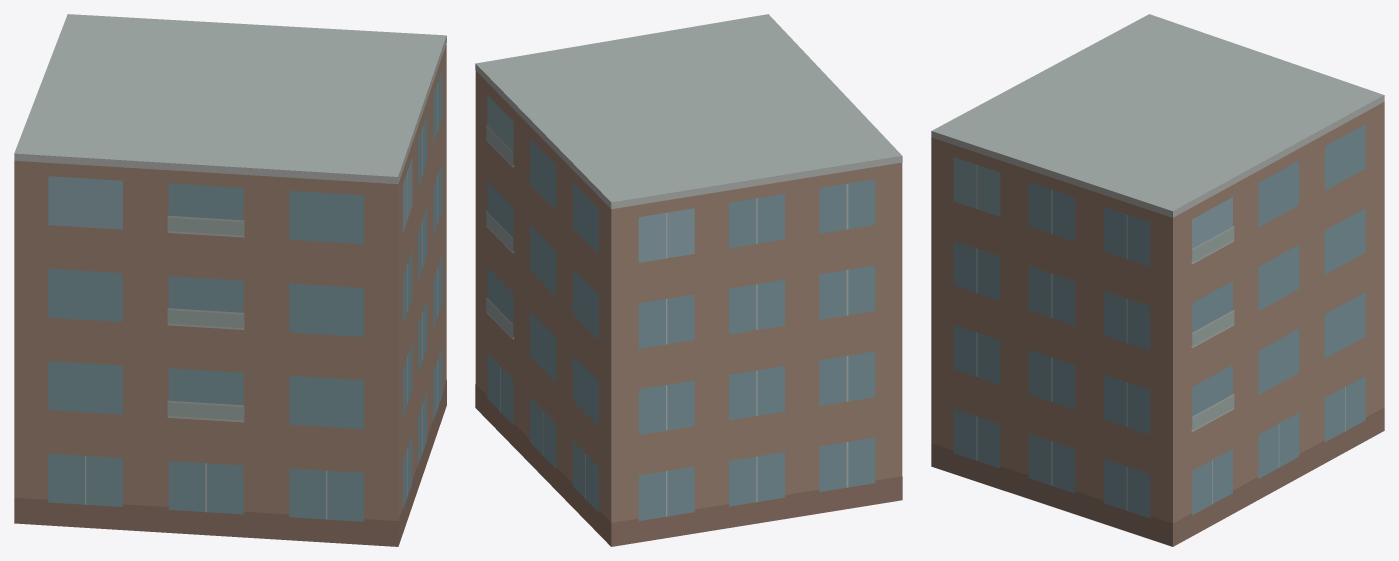
The model's file is survey-upis-32843971.glb.
The picture shows the model from 3 angles, left to right: view 1: azimuth 30°, elevation 25°; view 2: azimuth 150°, elevation 25°; view 3: azimuth 270°, elevation 25°; orthographic projection. The views are drawn at different scales.
Parts seen in each view (by area): view 1: survey-upis-32843971.tmp; view 2: survey-upis-32843971.tmp; view 3: survey-upis-32843971.tmp.
Part boxes in pixels (x1,y1,x2,y2): survey-upis-32843971.tmp: (14,14,446,546); survey-upis-32843971.tmp: (475,14,902,546); survey-upis-32843971.tmp: (931,14,1384,546).
Size of the model in its own units: 15.83 by 12.55 by 15.37.
